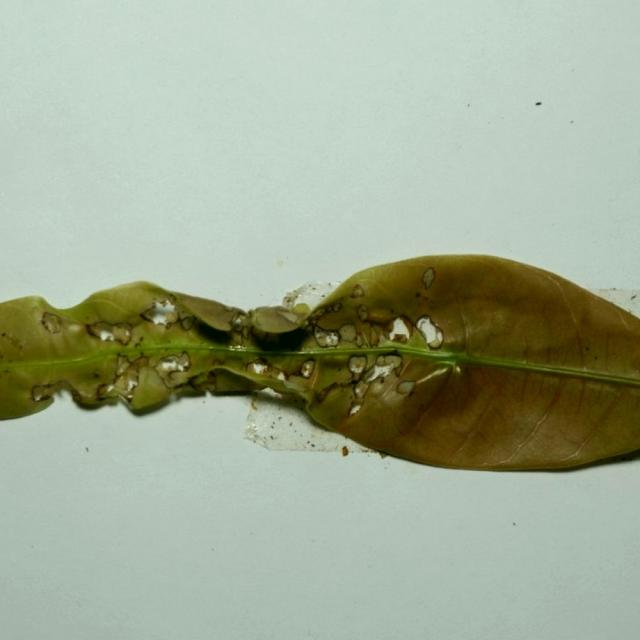Anthracnose: (443, 361, 561, 460), (354, 254, 559, 299), (558, 285, 635, 377), (454, 285, 544, 356), (99, 348, 199, 405), (393, 364, 451, 441), (301, 368, 369, 433), (5, 295, 78, 353), (351, 351, 411, 406), (395, 310, 462, 351), (243, 353, 313, 389), (446, 292, 484, 358), (306, 303, 355, 346), (140, 300, 199, 334), (30, 376, 92, 406), (85, 294, 145, 324), (106, 356, 146, 398), (241, 346, 278, 391), (229, 311, 252, 346)
Mango: (0, 255, 639, 476)
